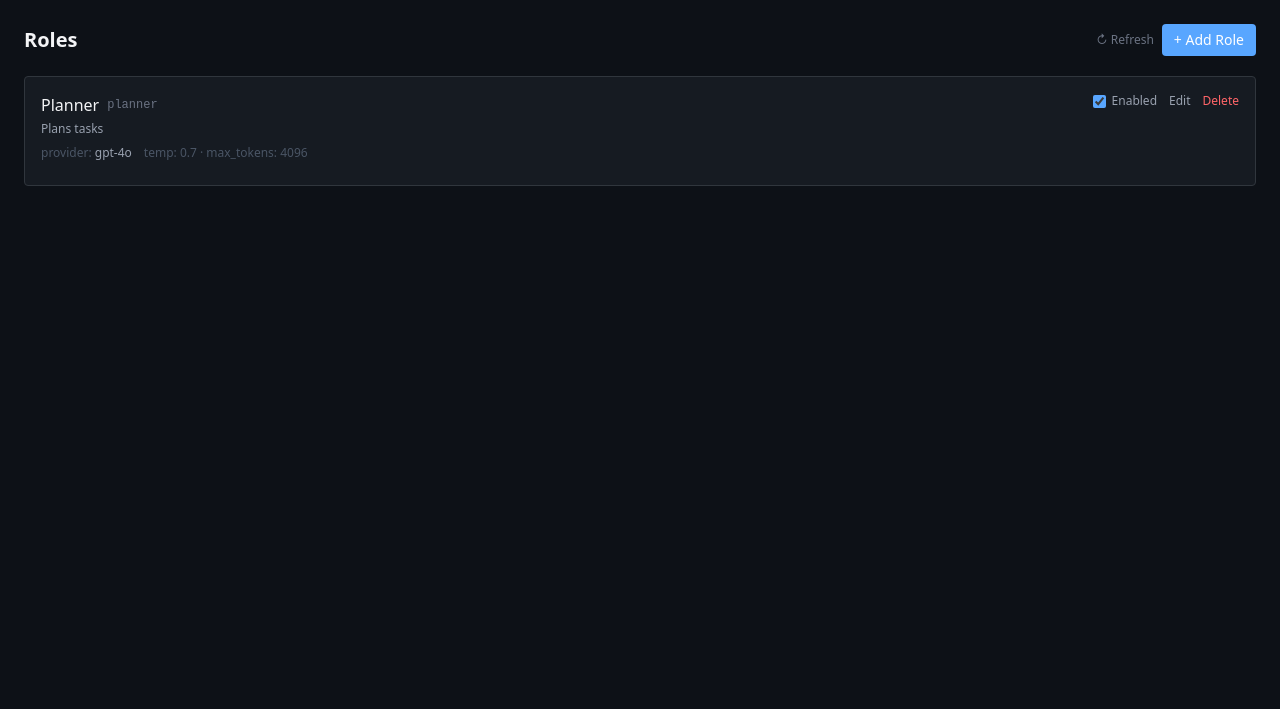
Scenario: Roles — provider dropdown filtering › shows all providers when role name is empty
Click the button "+ Add Role".
click(1209, 40)  # box [1162, 24, 1256, 56]
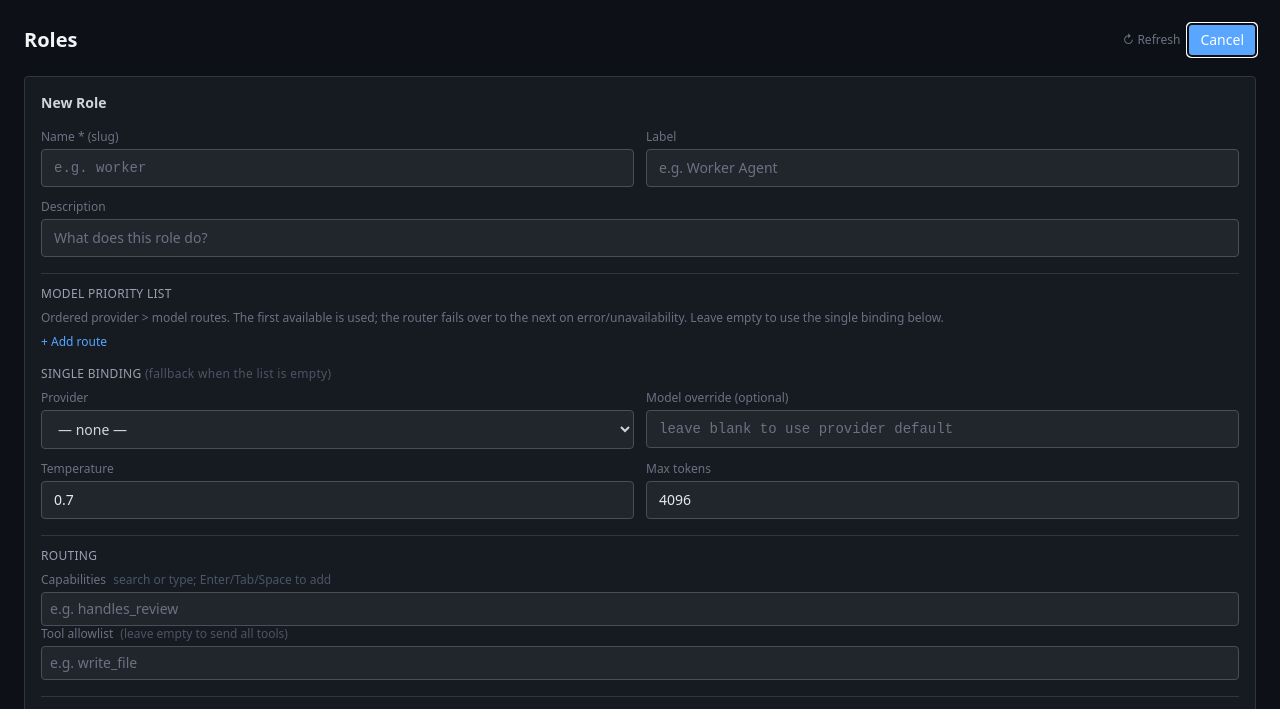
Expected: the text "Provider" is shown, [41, 389, 88, 406]
